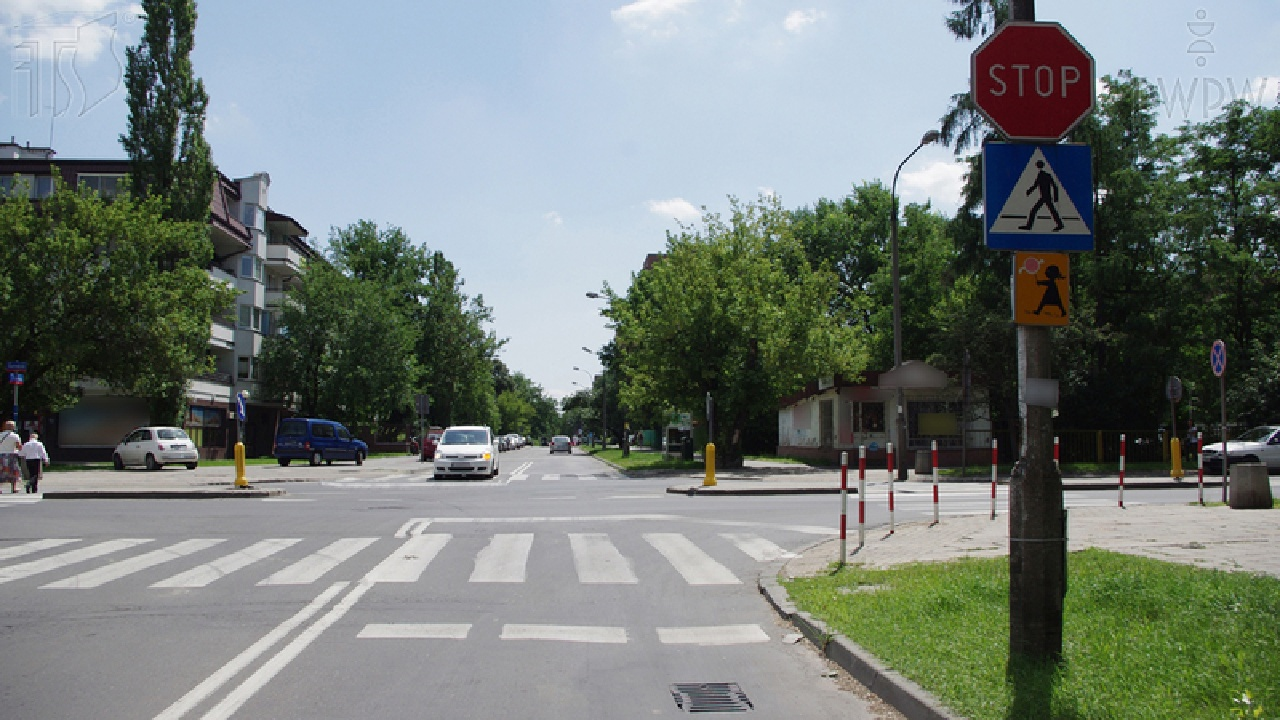B20: (959, 15, 1107, 142)
D6: (974, 137, 1110, 253)
